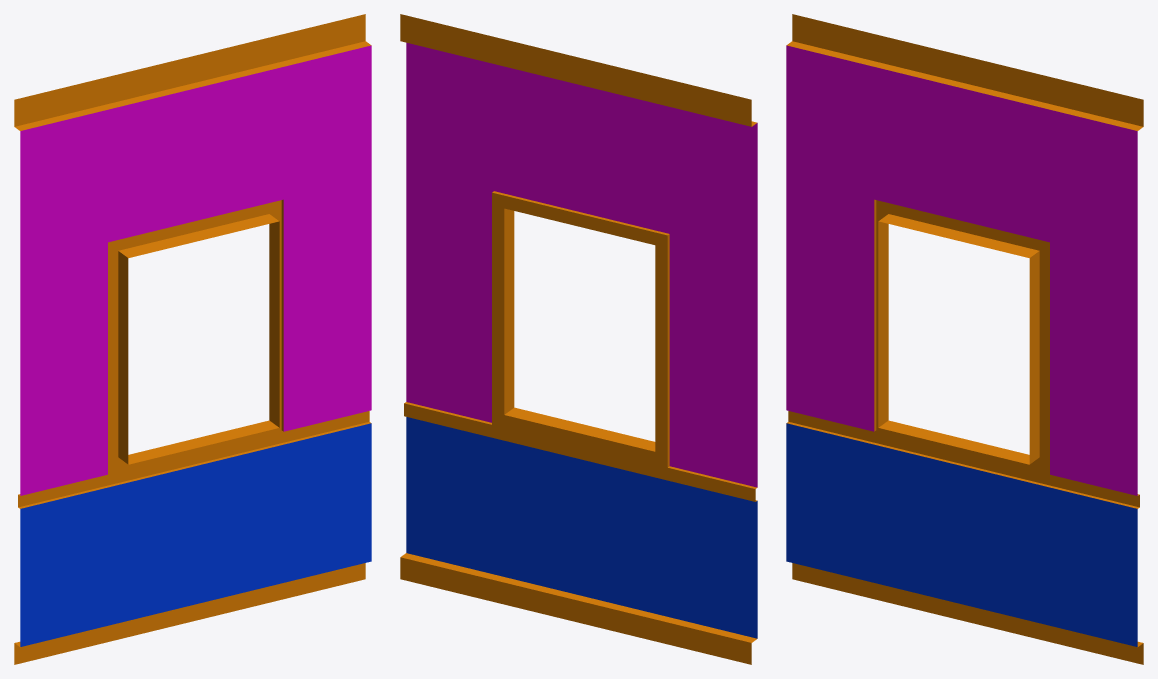
The model's file is Unit_Window.fbx.
3 renders of one model, left to right at view 1: azimuth 30°, elevation 25°; view 2: azimuth 150°, elevation 25°; view 3: azimuth 330°, elevation 25°, orthographic.
Parts seen in each view (by area): view 1: Unit_Window; view 2: Unit_Window; view 3: Unit_Window.
Boxes of the visible parts, bbox=[...] form: Unit_Window: bbox=[14, 14, 371, 664]; Unit_Window: bbox=[400, 14, 757, 664]; Unit_Window: bbox=[786, 14, 1143, 664].
Size of the model in its own units: 2 by 3.07 by 0.1369.
